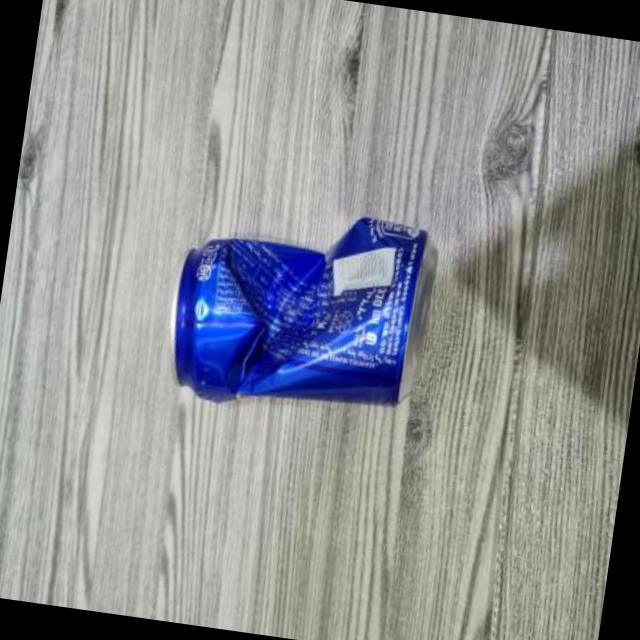metal: (172, 215, 422, 402)
